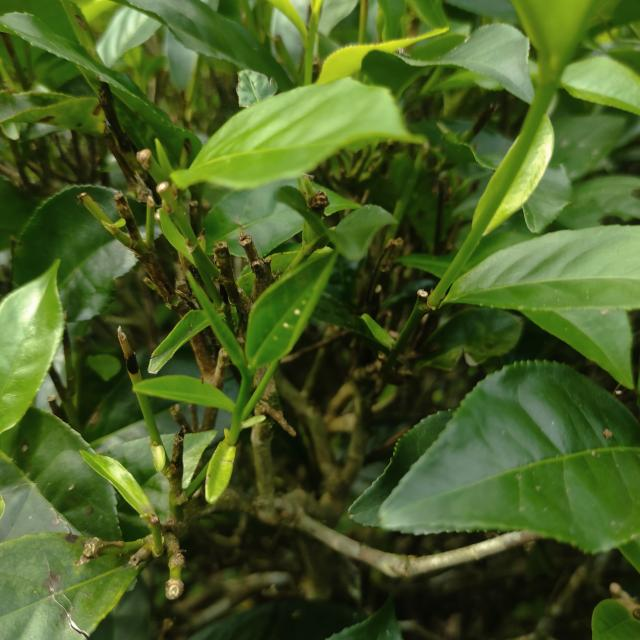unopened_leaf: (181, 265, 258, 379), (149, 131, 177, 182)
